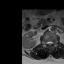CCS_normal: (48, 39, 50, 47)
LFS_stenosis: (52, 39, 54, 45)
LLS_normal: (50, 39, 52, 46)
RFS_stenosis: (45, 39, 46, 46)
RLS_normal: (46, 39, 48, 46)
